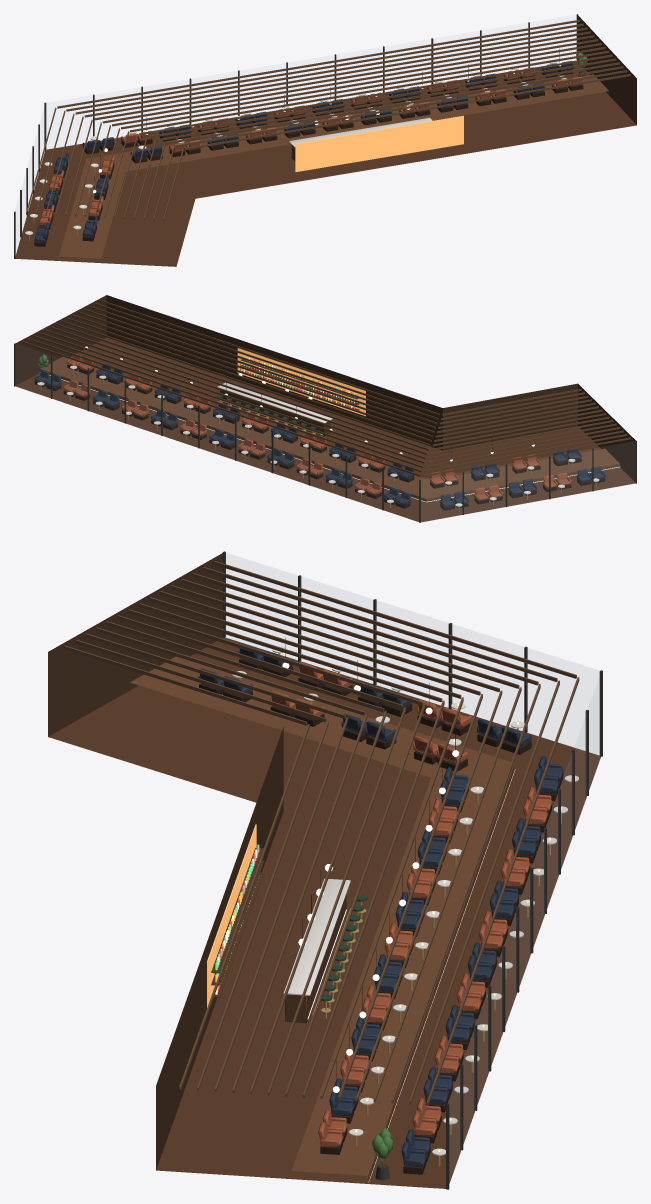
Rendered from akane-sky.glb.
The picture shows the model from 3 angles, top to bottom: view 1: azimuth 30°, elevation 25°; view 2: azimuth 150°, elevation 25°; view 3: azimuth 270°, elevation 25°; orthographic projection. The views are drawn at different scales.
Visible parts, largest first — view 1: Space_BarWood, Space_SlatWood, Space_StepWood, Space_BackGlow, Space_DarkWood, Space_FabricInk, Space_FabricRust, Space_BarWall, Space_Mullion, Space_Marble; view 2: Space_SlatWood, Space_BarWall, Space_BarWood, Space_StepWood, Space_FabricInk, Space_FabricRust, Space_DarkWood, Space_Mullion, Space_BackGlow, Space_Marble, Space_Walnut, Space_Brass; view 3: Space_BarWood, Space_SlatWood, Space_StepWood, Space_BarWall, Space_FabricInk, Space_FabricRust, Space_DarkWood, Space_Marble, Space_Mullion, Space_Walnut, Space_Brass, Space_BackGlow (+1 smaller).
Boxes of the visible parts, <box> form: Space_BarWood: <box>15,62,636,266</box>; Space_SlatWood: <box>26,19,630,220</box>; Space_StepWood: <box>59,74,608,258</box>; Space_BackGlow: <box>295,115,463,171</box>; Space_DarkWood: <box>34,49,583,246</box>; Space_FabricInk: <box>34,61,573,242</box>; Space_FabricRust: <box>39,67,583,224</box>; Space_BarWall: <box>577,15,636,124</box>; Space_Mullion: <box>14,14,577,258</box>; Space_Marble: <box>25,61,566,234</box>; Space_SlatWood: <box>22,300,630,476</box>; Space_BarWall: <box>15,295,635,481</box>; Space_BarWood: <box>15,337,635,522</box>; Space_StepWood: <box>40,357,620,502</box>; Space_FabricInk: <box>34,363,605,506</box>; Space_FabricRust: <box>63,353,571,500</box>; Space_DarkWood: <box>34,334,605,510</box>; Space_Mullion: <box>14,343,636,522</box>; Space_BackGlow: <box>237,348,365,416</box>; Space_Marble: <box>37,365,599,506</box>; Space_Walnut: <box>220,359,359,436</box>; Space_Brass: <box>40,369,596,511</box>; Space_BarWood: <box>48,637,600,1188</box>; Space_SlatWood: <box>64,560,579,1105</box>; Space_StepWood: <box>130,656,514,1182</box>; Space_BarWall: <box>48,553,283,1169</box>; Space_FabricInk: <box>198,643,563,1166</box>; Space_FabricRust: <box>270,662,552,1146</box>; Space_DarkWood: <box>199,638,563,1174</box>; Space_Marble: <box>232,646,578,1155</box>; Space_Mullion: <box>222,551,602,1189</box>; Space_Walnut: <box>211,847,346,1022</box>; Space_Brass: <box>238,653,571,1165</box>; Space_BackGlow: <box>207,824,256,1007</box>.
Size of the model in its own units: 43.95 by 3.15 by 18.64.
